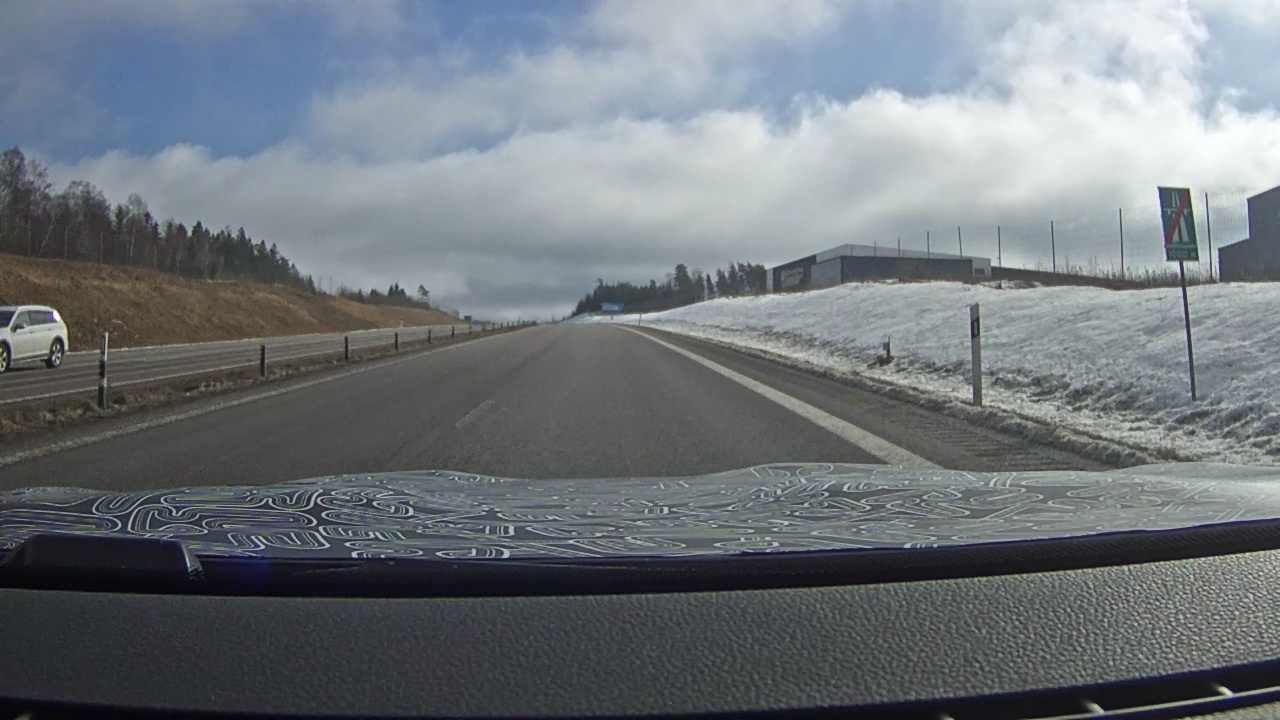Regular_End_Of_Motorway: (1158, 186, 1196, 245)
